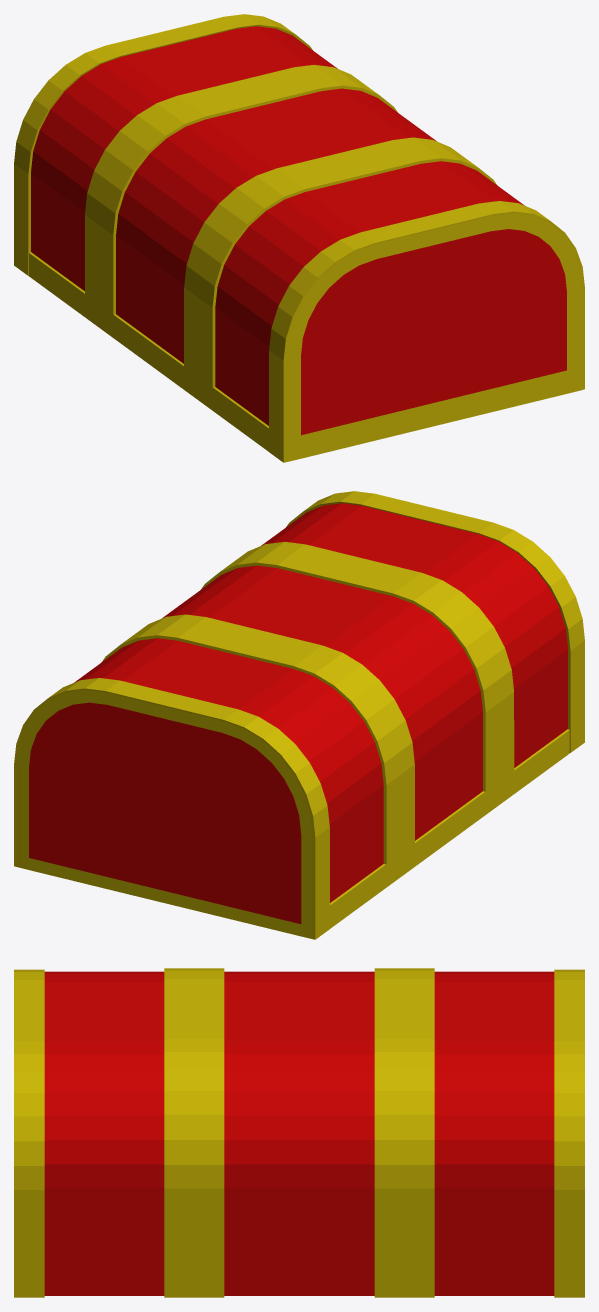
The model's file is TreasureChestTwo.obj.
3 renders of one model, top to bottom at view 1: azimuth 30°, elevation 25°; view 2: azimuth 150°, elevation 25°; view 3: azimuth 270°, elevation 25°, orthographic. The views are drawn at different scales.
Visible parts, largest first — view 1: 立方体.118; view 2: 立方体.118; view 3: 立方体.118.
Boxes of the visible parts, x1,y1,x2,y2 form: 立方体.118: (14,14,584,462); 立方体.118: (14,491,584,939); 立方体.118: (14,968,584,1297).
Bounding box in the file's own units: 1.24 × 0.7869 × 1.93.
